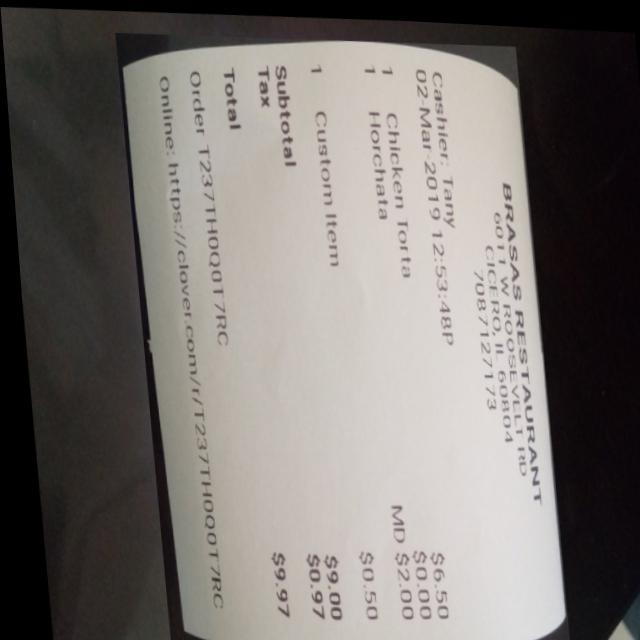Paper: (113, 23, 561, 640)
